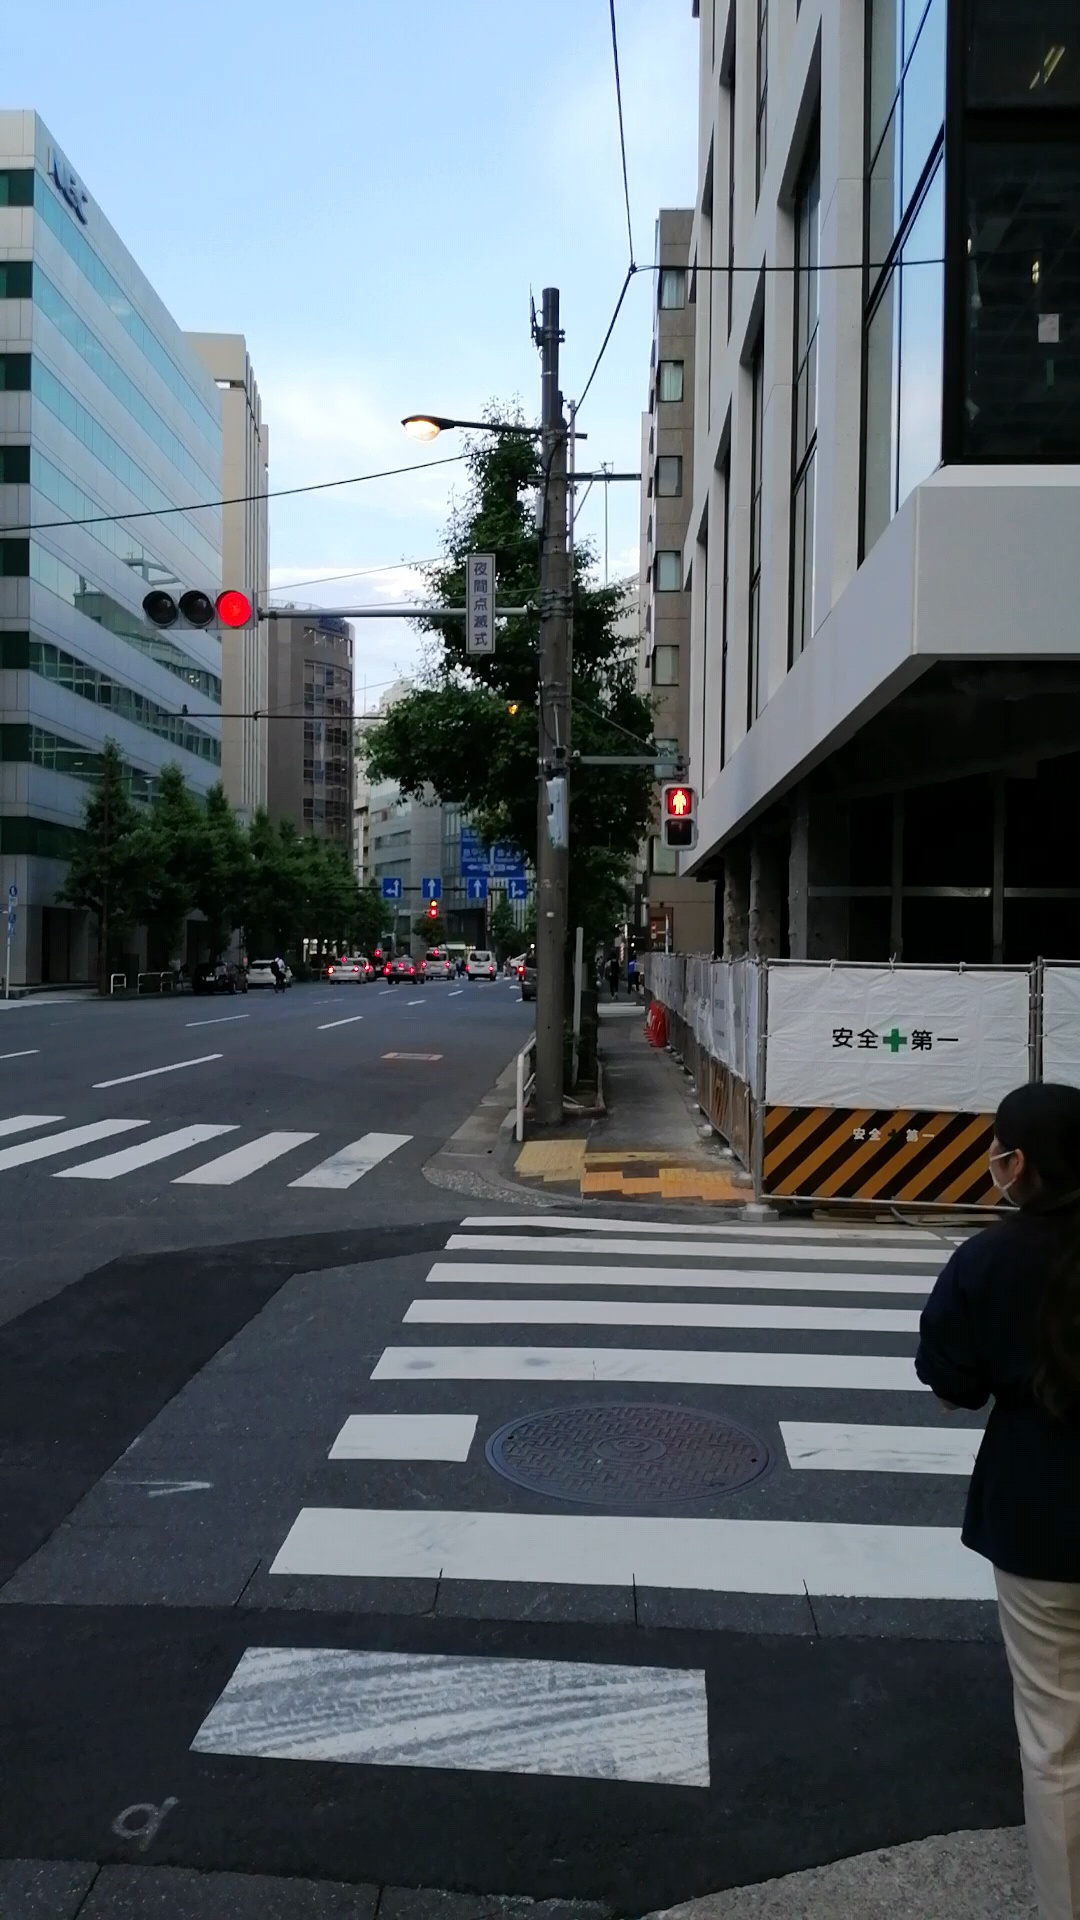red: (659, 781, 700, 852)
